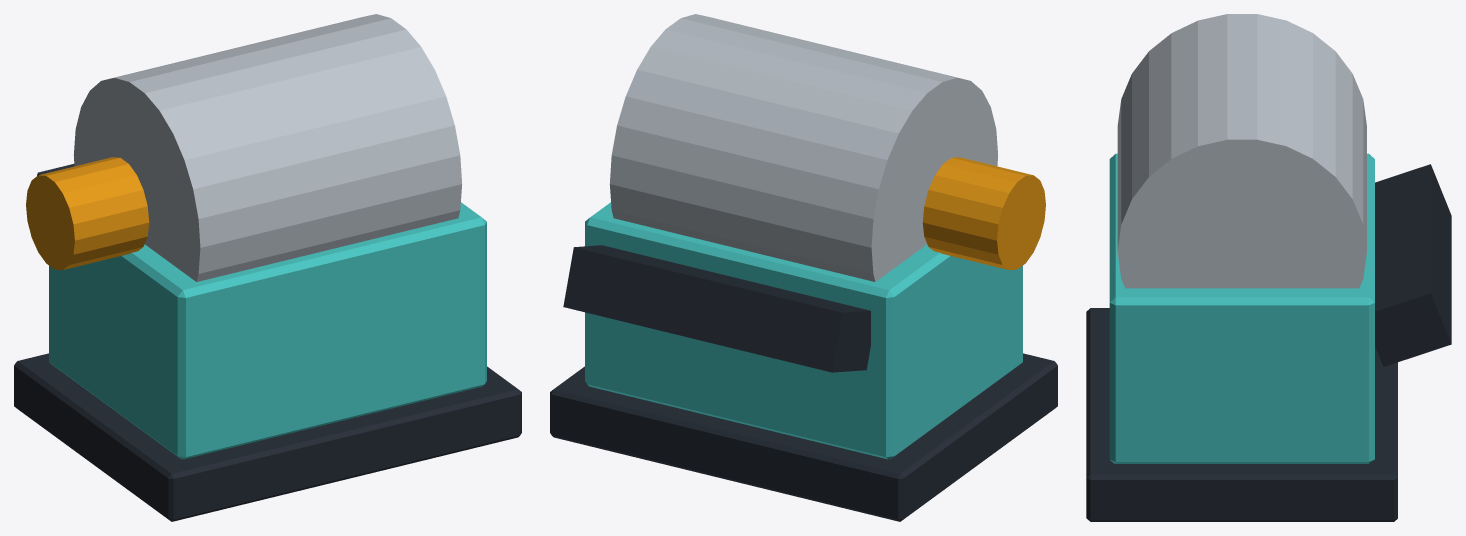
The model's file is magnetic_separator_ms301.glb.
3 views of the same model, side by side, from view 1: azimuth 30°, elevation 25°; view 2: azimuth 150°, elevation 25°; view 3: azimuth 270°, elevation 25° (orthographic).
Visible parts, largest first — view 1: MS301_TankBox, MS301_WetDrum, MS301_Base, MS301_DriveMotor; view 2: MS301_WetDrum, MS301_TankBox, MS301_Base, MS301_DriveMotor; view 3: MS301_WetDrum, MS301_TankBox, MS301_Base.
Boxes of the visible parts, x1=… form: MS301_TankBox: x1=49, y1=202, x2=486, y2=459; MS301_WetDrum: x1=73, y1=14, x2=462, y2=281; MS301_Base: x1=14, y1=164, x2=521, y2=521; MS301_DriveMotor: x1=26, y1=157, x2=149, y2=270; MS301_WetDrum: x1=609, y1=14, x2=998, y2=281; MS301_TankBox: x1=585, y1=202, x2=1022, y2=459; MS301_Base: x1=550, y1=245, x2=1057, y2=521; MS301_DriveMotor: x1=922, y1=157, x2=1045, y2=270; MS301_WetDrum: x1=1117, y1=14, x2=1366, y2=288; MS301_TankBox: x1=1109, y1=153, x2=1374, y2=463; MS301_Base: x1=1086, y1=164, x2=1451, y2=521.
Bounding box in the file's own units: 2.23 × 1.99 × 1.82.
